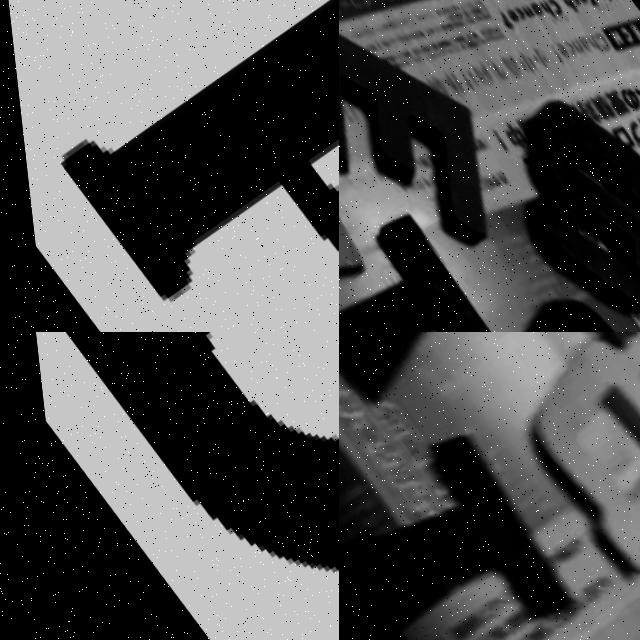D: (0, 332, 339, 640)
E: (339, 0, 534, 286)
Q: (479, 332, 640, 591)
S: (457, 73, 640, 332)
T: (339, 402, 590, 640), (339, 211, 512, 332)
